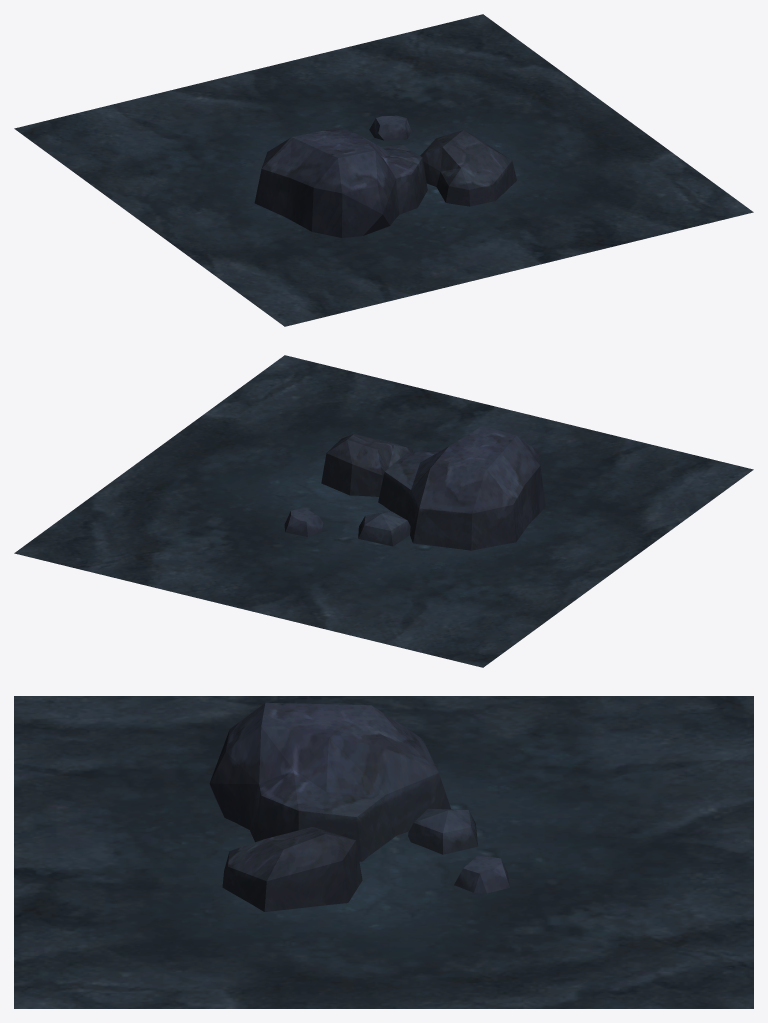
Rendered from mine_rubble_03.fbx.
The picture shows the model from 3 angles, top to bottom: view 1: azimuth 30°, elevation 25°; view 2: azimuth 150°, elevation 25°; view 3: azimuth 270°, elevation 25°; orthographic projection. The views are drawn at different scales.
Visible parts, largest first — view 1: obj1.037; view 2: obj1.037; view 3: obj1.037.
Part boxes in pixels (<box>): obj1.037: <box>14,14,753,326</box>; obj1.037: <box>14,355,753,667</box>; obj1.037: <box>14,696,753,1008</box>.
Size of the model in its own units: 4 by 0.5878 by 4.
